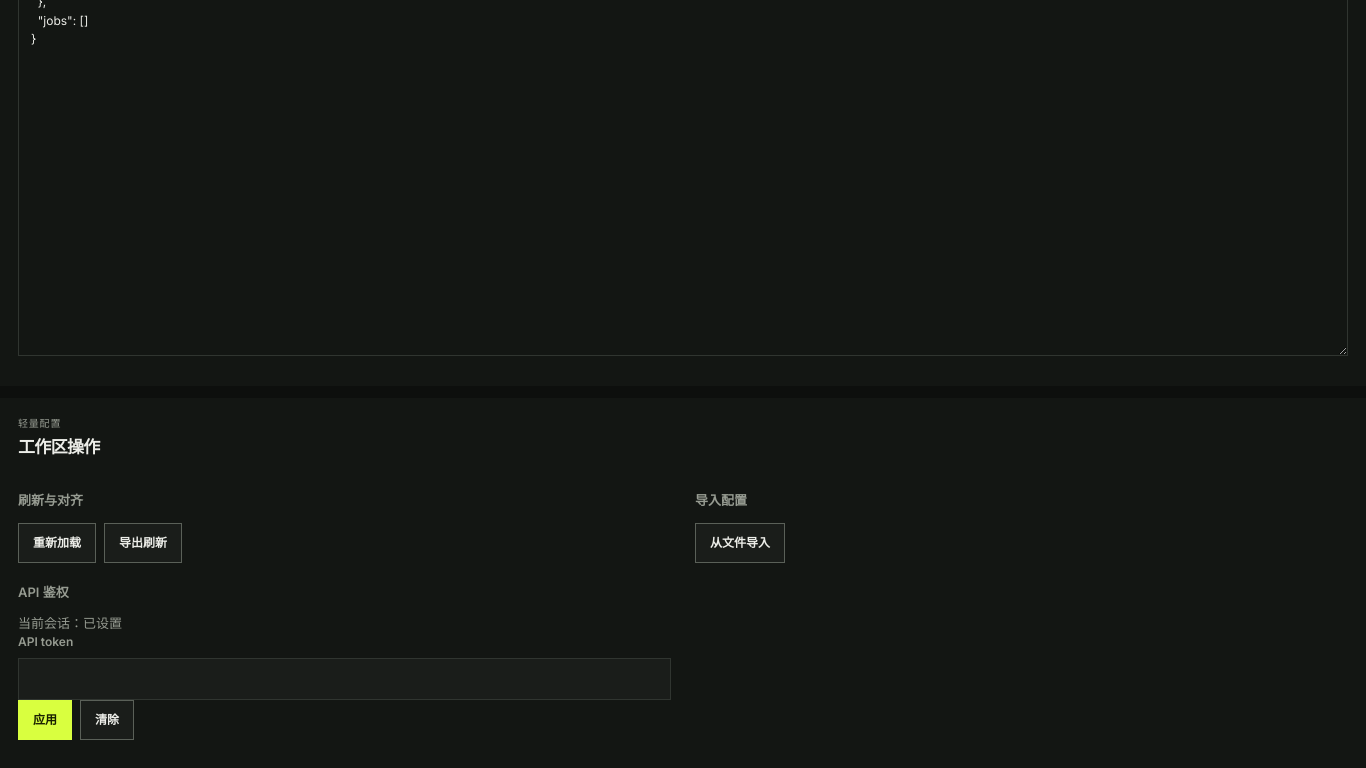
it: SettingsPage › clears the API token for the current session
This screenshot has width=1366, height=768.
(page scrolled)
Click the button with aria-label "clear-api-token".
click(107, 720)  # box [80,700,134,740]
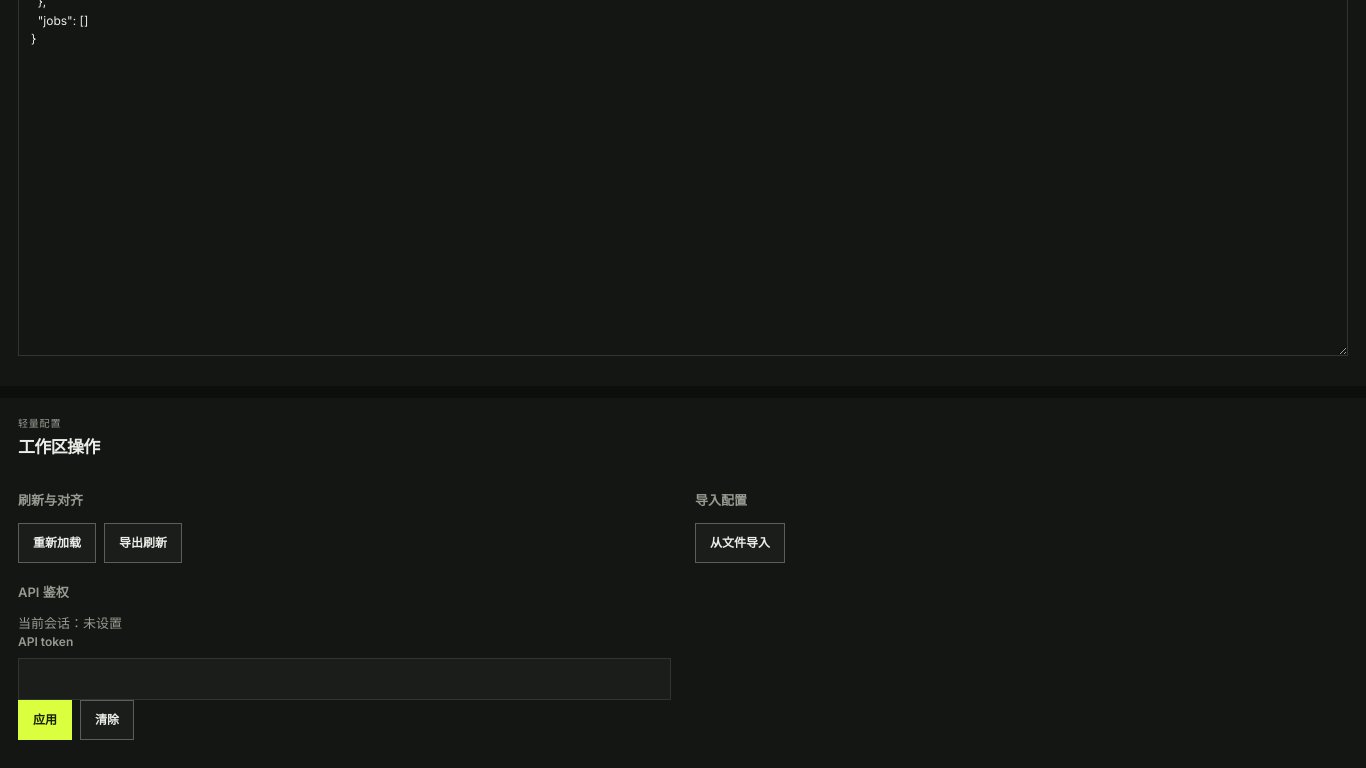
Expected: the text with test id "api-token-session-status" shows "未设置", [18,615,122,631]
